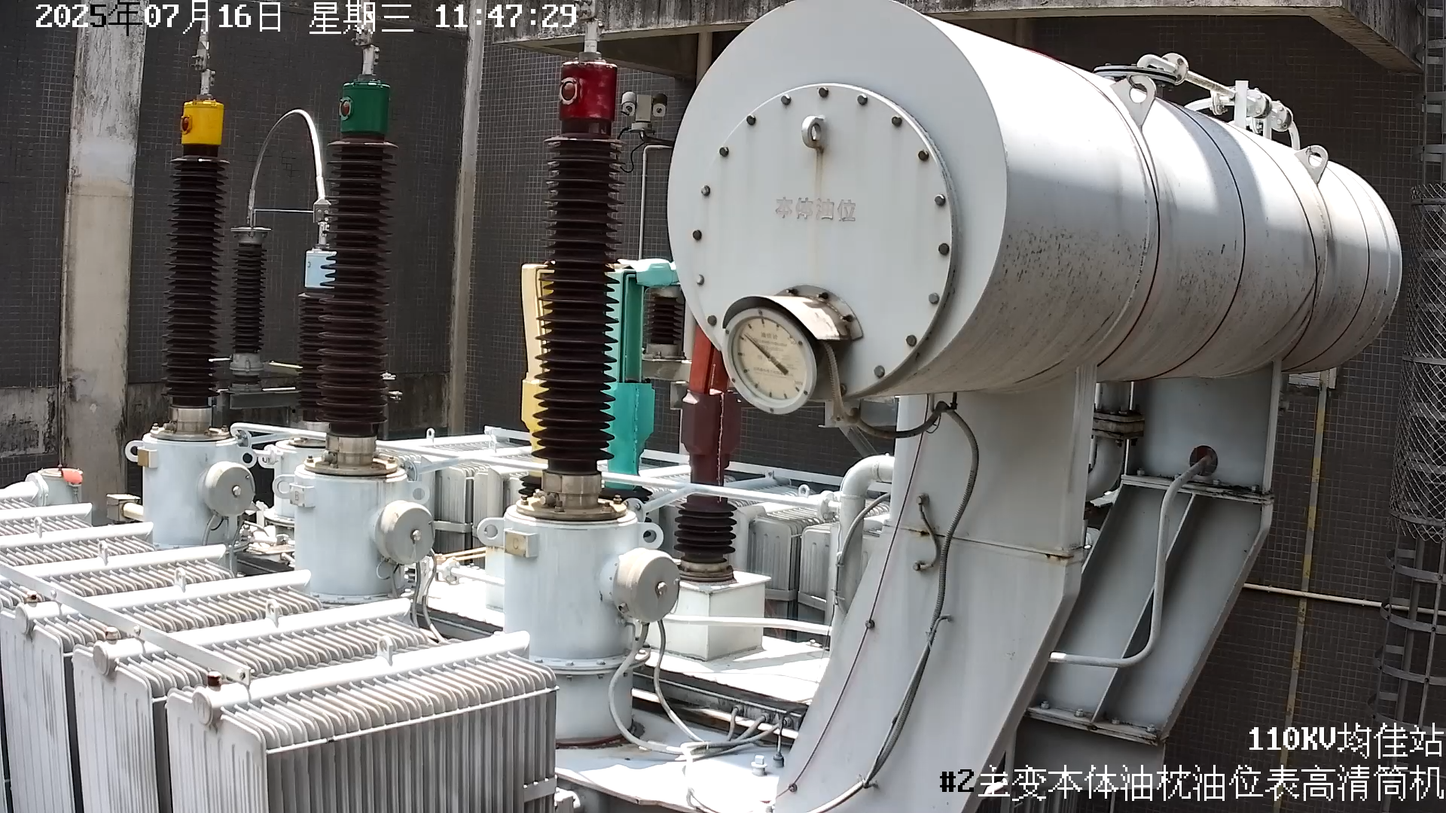MainTR: (1, 1, 1402, 813)
